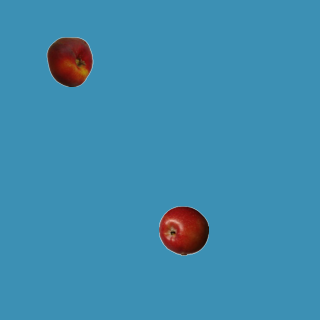Apple Braeburn: (158, 205, 208, 255)
Nectarine Flat: (44, 36, 94, 86)
